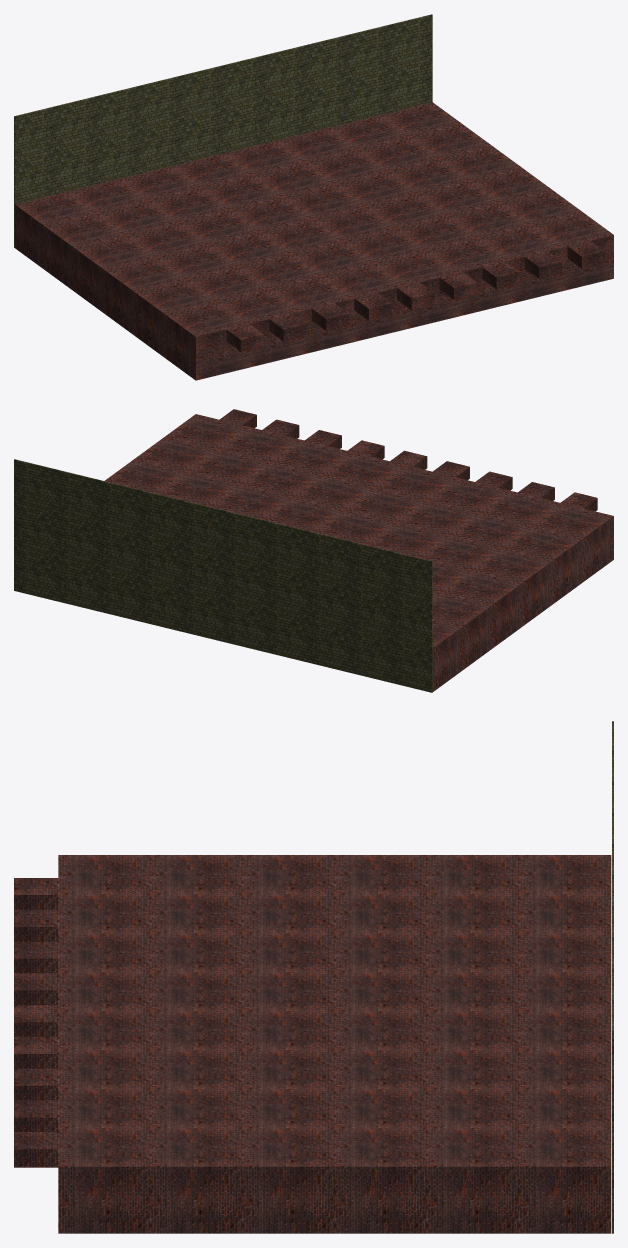
Rendered from keep_t3_5.gltf.
The picture shows the model from 3 angles, top to bottom: view 1: azimuth 30°, elevation 25°; view 2: azimuth 150°, elevation 25°; view 3: azimuth 270°, elevation 25°; orthographic projection. The views are drawn at different scales.
Visible parts, largest first — view 1: keep_t3_5_wallg, keep_t3_5_ground; view 2: keep_t3_5_ground, keep_t3_5_wallg; view 3: keep_t3_5_wallg, keep_t3_5_ground.
Part boxes in pixels (bbox=[...]): keep_t3_5_wallg: bbox=[15, 102, 613, 380]; keep_t3_5_ground: bbox=[14, 14, 432, 247]; keep_t3_5_ground: bbox=[14, 459, 432, 692]; keep_t3_5_wallg: bbox=[105, 409, 613, 691]; keep_t3_5_wallg: bbox=[14, 855, 611, 1233]; keep_t3_5_ground: bbox=[612, 721, 613, 1233].
Bounding box in the file's own units: 40 × 12 × 32.54.
2 materials, 2 textured.
